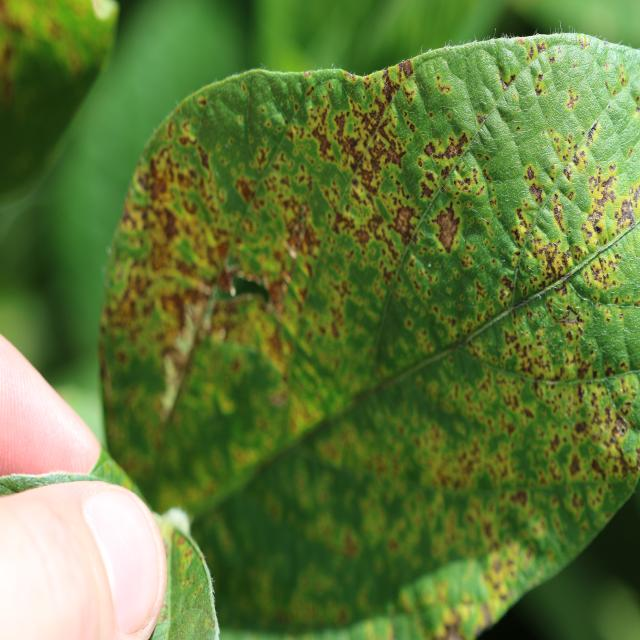Bacterial_Blight: (428, 133, 505, 267), (357, 128, 423, 262), (309, 162, 371, 272), (139, 196, 210, 285), (575, 391, 637, 463), (326, 105, 376, 187), (582, 167, 626, 242), (501, 328, 553, 389), (548, 123, 595, 179), (433, 204, 476, 264), (425, 130, 470, 168), (534, 238, 572, 281), (365, 129, 398, 176), (431, 202, 462, 251), (522, 163, 551, 214), (582, 257, 619, 294), (224, 274, 269, 304), (158, 290, 186, 326), (356, 158, 382, 194), (604, 62, 628, 99), (585, 201, 610, 236), (148, 168, 172, 202), (615, 195, 638, 230), (330, 207, 355, 235), (159, 207, 179, 241), (496, 60, 518, 86), (551, 195, 566, 232), (236, 177, 256, 204), (395, 208, 413, 237), (440, 618, 464, 639), (611, 414, 629, 440), (381, 73, 397, 102), (342, 531, 359, 557), (528, 181, 545, 206), (443, 140, 464, 160), (434, 73, 452, 96), (385, 147, 403, 169), (197, 144, 211, 171), (354, 226, 371, 248), (213, 239, 230, 261), (316, 132, 332, 155), (420, 177, 436, 200), (564, 88, 580, 111), (510, 489, 528, 508), (398, 58, 414, 78), (569, 453, 582, 476), (534, 75, 547, 97), (586, 121, 599, 143), (618, 65, 629, 88), (423, 141, 436, 157), (578, 36, 590, 51), (525, 165, 536, 180), (475, 113, 487, 126), (197, 97, 207, 107), (405, 318, 413, 330), (306, 86, 314, 96), (303, 70, 311, 78)
Soybean: (97, 31, 640, 640)
